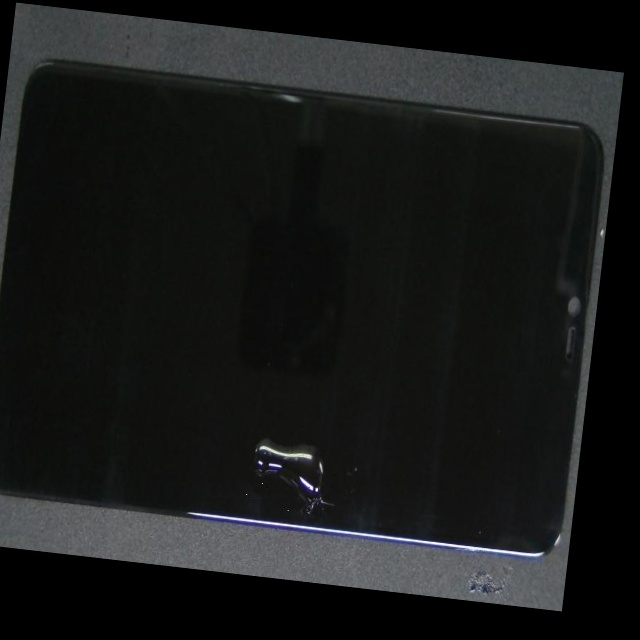oil: (101, 197, 425, 591)
